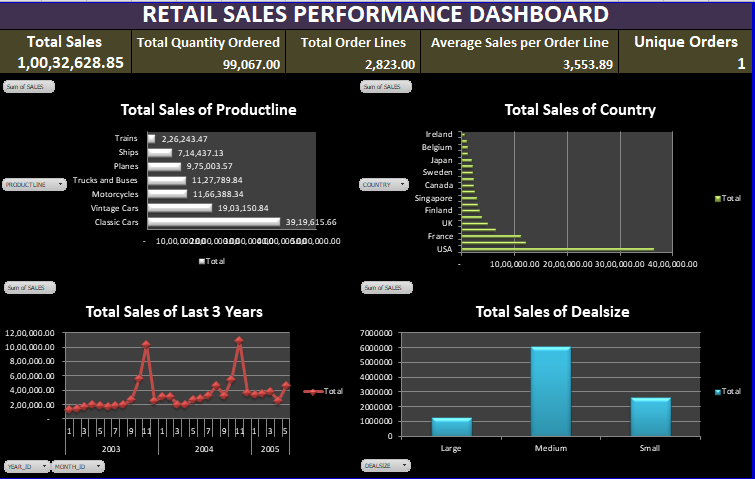

What the dashboard file says about the page in this screenshot:
{"tool":"powerbi","page":{"name":"Page 1","canvas":[1920,1080],"ordinal":0},"visuals":[{"type":"cardVisual","fields":{"Data":["public sales_data_sample.Sum of Sales"]},"box":[0,153.1,429.4,112.7],"z":0},{"type":"cardVisual","fields":{"Data":["CountNonNull(public sales_data_sample.ordernumber)"]},"box":[429.4,153.1,497.5,112.7],"z":1000},{"type":"cardVisual","fields":{"Data":["Sum(public sales_data_sample.quantityordered)"]},"box":[926.9,153.1,482.6,112.7],"z":2000},{"type":"cardVisual","fields":{"Data":["Avg(public sales_data_sample.sales)"]},"box":[1409.5,153.1,510.2,112.7],"z":3000},{"type":"textbox","box":[0,0,1919.8,68],"z":4000},{"type":"clusteredBarChart","title":"Sales by Product Line","fields":{"Category":["public sales_data_sample.productline"],"Y":["Sum(public sales_data_sample.sales)"]},"box":[0,265.7,926.9,408.2],"z":5000},{"type":"lineChart","title":"Monthly Sales Trend","fields":{"Category":["public sales_data_sample.orderdate.Variation.Date Hierarchy.Year","public sales_data_sample.orderdate.Variation.Date Hierarchy.Month"],"Y":["Sum(public sales_data_sample.sales)"]},"box":[926.9,265.7,992.8,408.2],"z":6000},{"type":"clusteredColumnChart","title":"Sales by Deal Size","fields":{"Category":["public sales_data_sample.dealsize"],"Y":["Sum(public sales_data_sample.sales)"]},"box":[0,671.8,926.9,408.2],"z":7000},{"type":"slicer","fields":{"Values":["public sales_data_sample.year_id"]},"box":[0,68,359.3,80.8],"z":8000},{"type":"slicer","fields":{"Values":["public sales_data_sample.country"]},"box":[1152.3,68,423.1,80.8],"z":9000},{"type":"slicer","fields":{"Values":["public sales_data_sample.productline"]},"box":[1575.4,68,344.4,80.8],"z":10000},{"type":"slicer","fields":{"Values":["public sales_data_sample.orderdate.Variation.Date Hierarchy.Month"]},"box":[769.6,68,382.7,80.8],"z":11000},{"type":"slicer","fields":{"Values":["public sales_data_sample.orderdate.Variation.Date Hierarchy.Quarter"]},"box":[359.3,68,410.3,85],"z":12000},{"type":"pieChart","title":"Sales by Country","fields":{"Category":["public sales_data_sample.country"],"Y":["Sum(public sales_data_sample.sales)"]},"box":[926.9,671.8,992.8,408.2],"z":13000}]}

Visuals, with their boxes on the page's 1920x1080 design canvas (x1, y1, x2, y2). These are canvas units, not pixel positions in the 755x479 screenshot, which may show the page scaled, cropped or inside an application window:
cardVisual - public sales_data_sample.Sum of Sales: box=[0, 153, 429, 266]
cardVisual - CountNonNull(public sales_data_sample.ordernumber): box=[429, 153, 927, 266]
cardVisual - Sum(public sales_data_sample.quantityordered): box=[927, 153, 1410, 266]
cardVisual - Avg(public sales_data_sample.sales): box=[1410, 153, 1920, 266]
textbox: box=[0, 0, 1920, 68]
"Sales by Product Line" clusteredBarChart: box=[0, 266, 927, 674]
"Monthly Sales Trend" lineChart: box=[927, 266, 1920, 674]
"Sales by Deal Size" clusteredColumnChart: box=[0, 672, 927, 1080]
slicer - public sales_data_sample.year_id: box=[0, 68, 359, 149]
slicer - public sales_data_sample.country: box=[1152, 68, 1575, 149]
slicer - public sales_data_sample.productline: box=[1575, 68, 1920, 149]
slicer - public sales_data_sample.orderdate.Variation.Date Hierarchy.Month: box=[770, 68, 1152, 149]
slicer - public sales_data_sample.orderdate.Variation.Date Hierarchy.Quarter: box=[359, 68, 770, 153]
"Sales by Country" pieChart: box=[927, 672, 1920, 1080]
